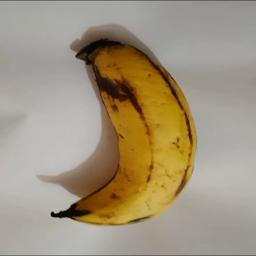Banana Semifresh: (48, 37, 201, 231)
